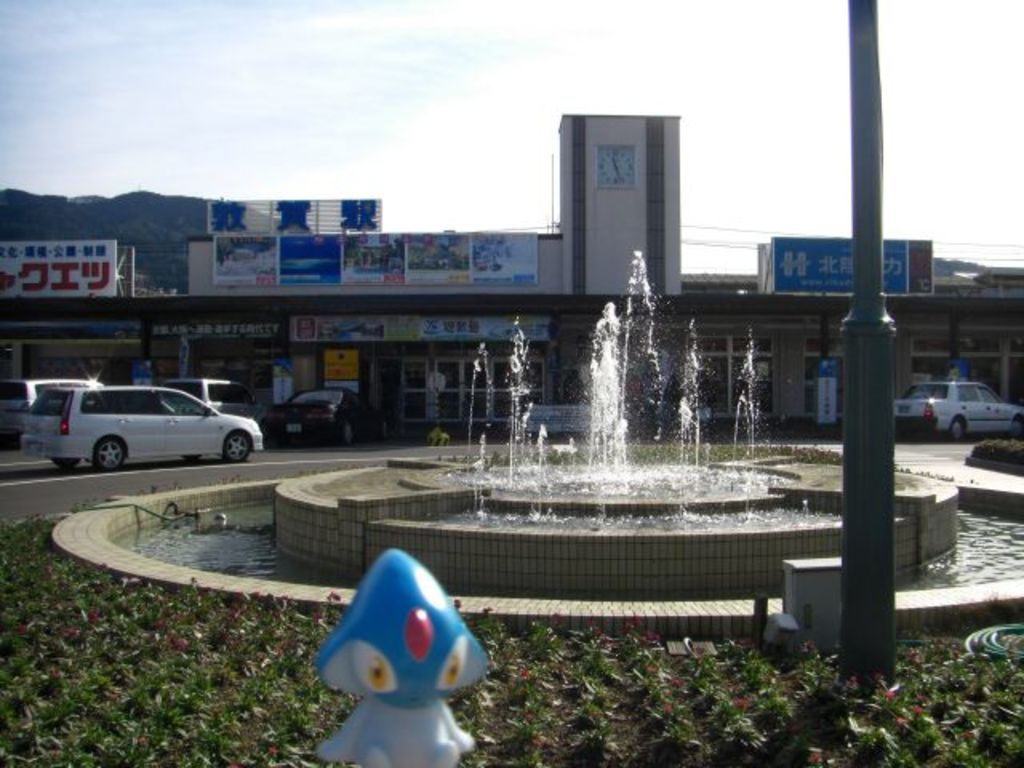Car: (24, 387, 270, 470), (894, 379, 1022, 443), (0, 374, 108, 428), (278, 385, 366, 436)
